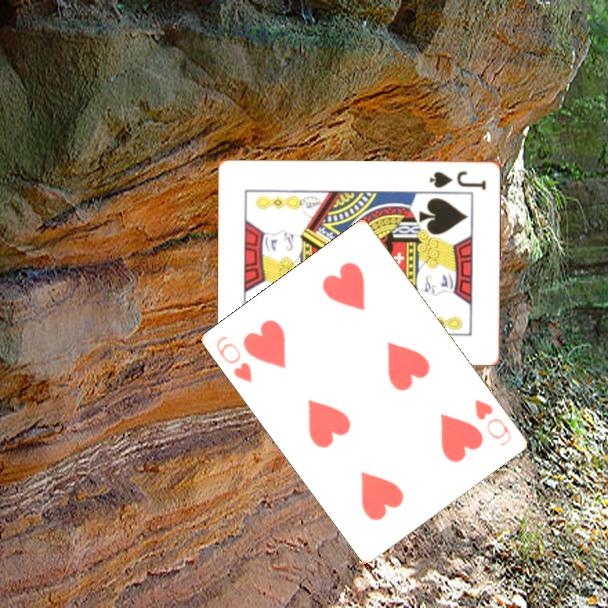h06: (471, 396, 515, 449), (213, 332, 256, 386)
s11: (426, 167, 489, 192)
